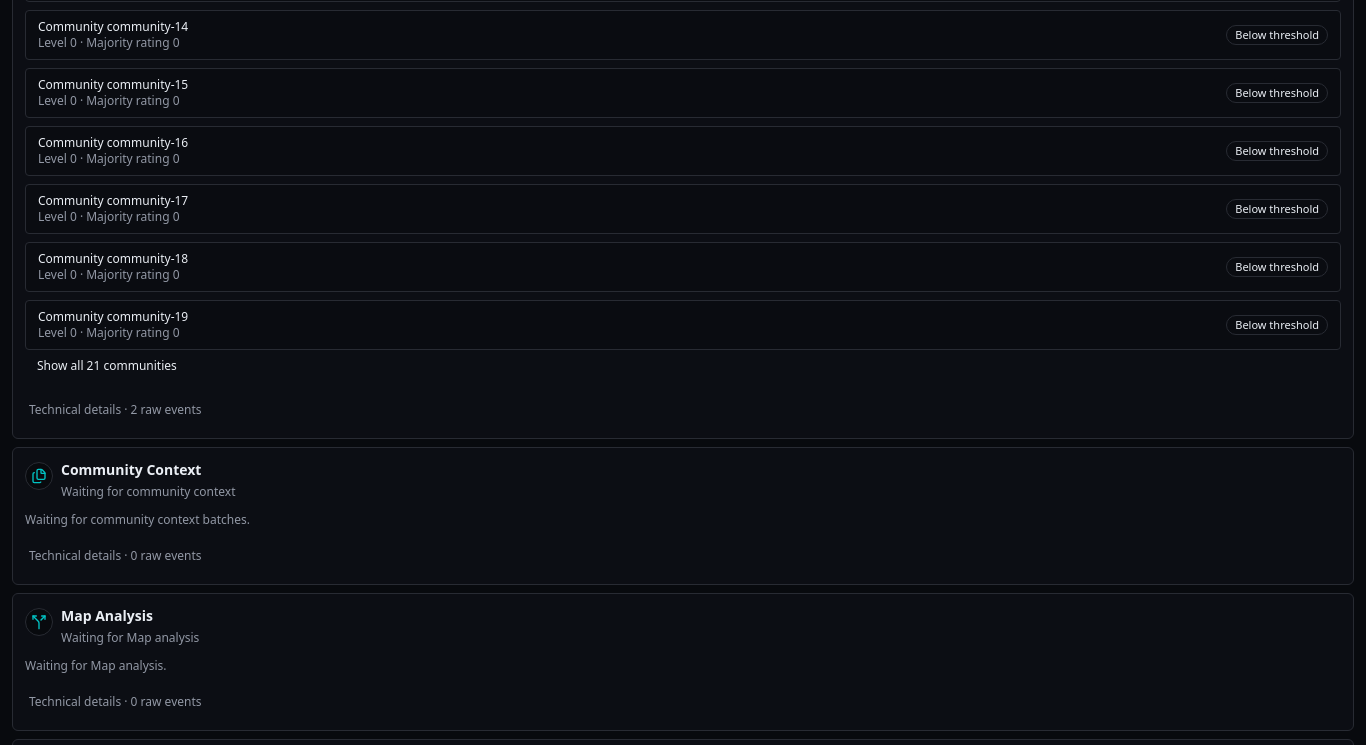
Test case: Global Timeline › bounds large Dynamic community lists with Show all and Show fewer
(page scrolled)
expect the text "Community community-20" is not shown: met
Click the button "Show all 21 communities" at (107, 366), box left=25, top=350, right=189, bottom=382
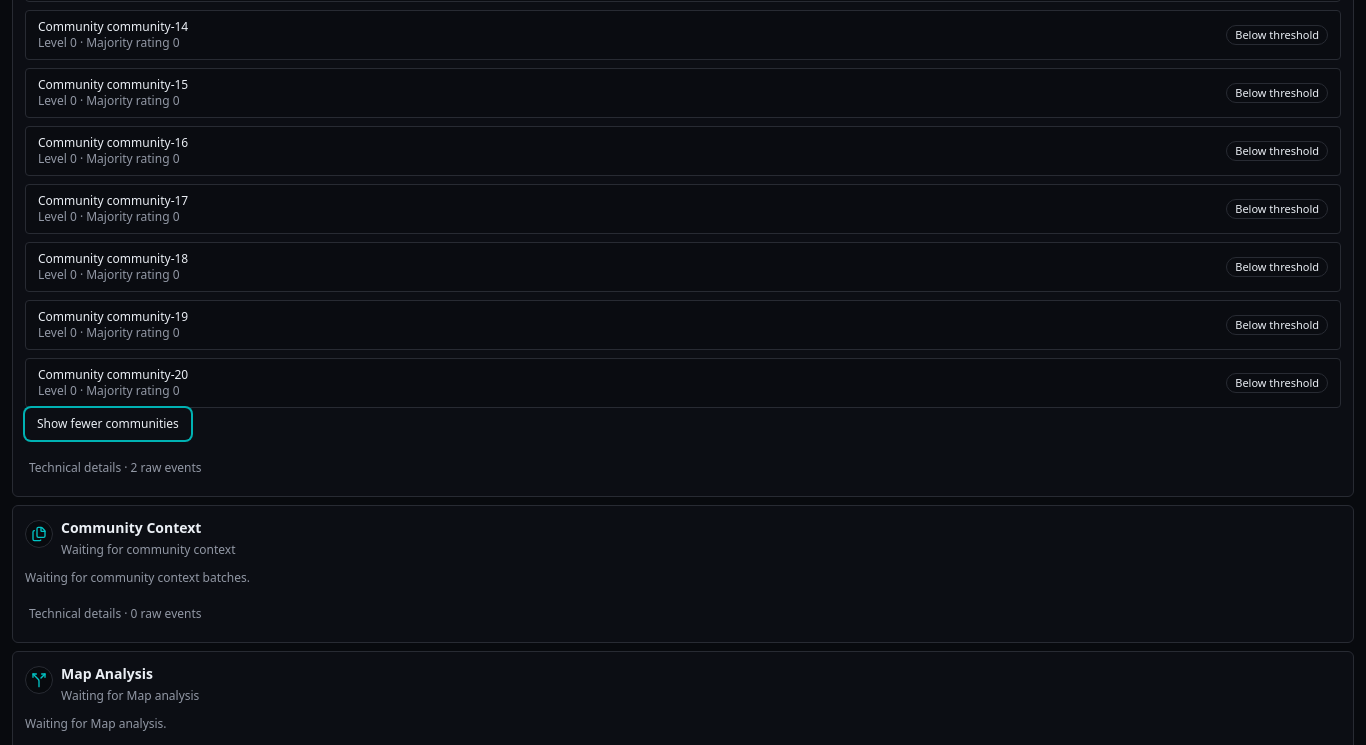
expect the text "Community community-20" is shown: met, box left=38, top=367, right=188, bottom=383
Click the button "Show fewer communities" at (108, 424), box left=25, top=408, right=191, bottom=440
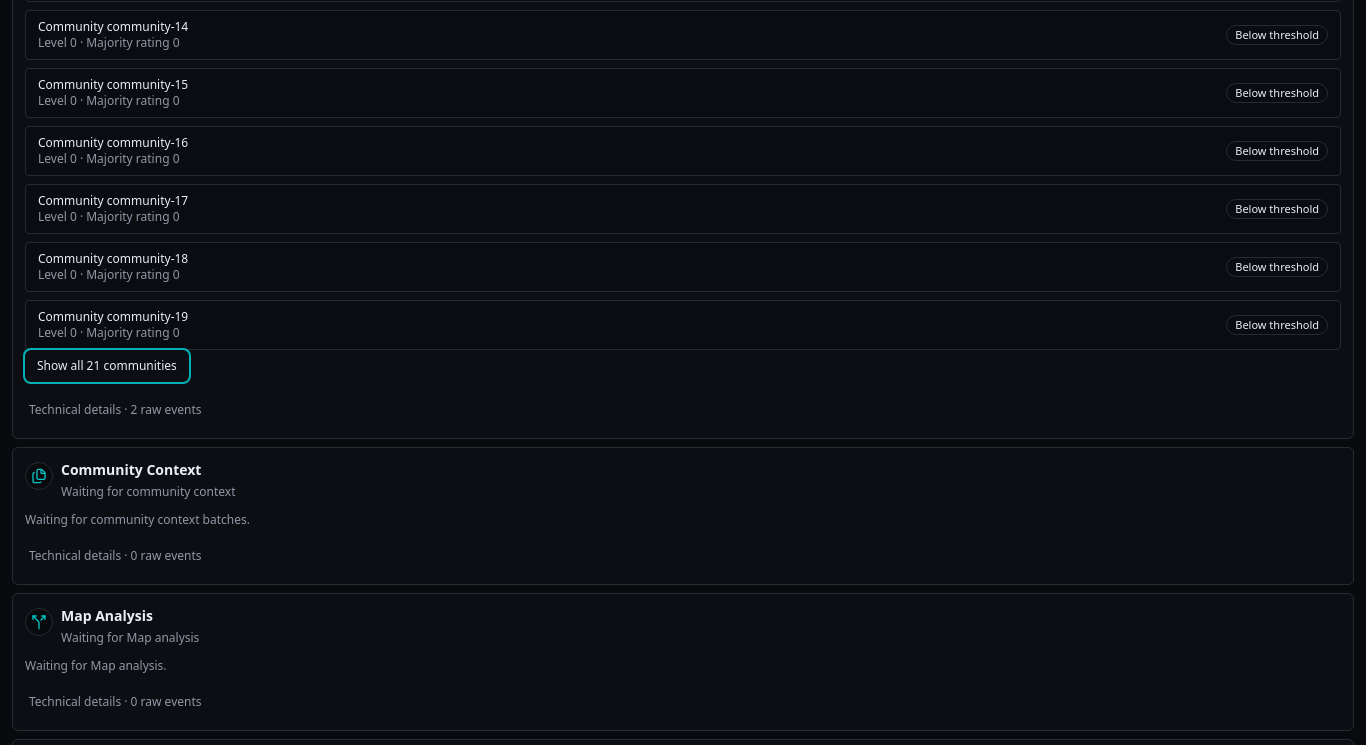
expect the button "Community community-20" is gone: met
